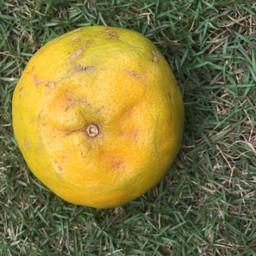Good_orange: (7, 21, 187, 215)
